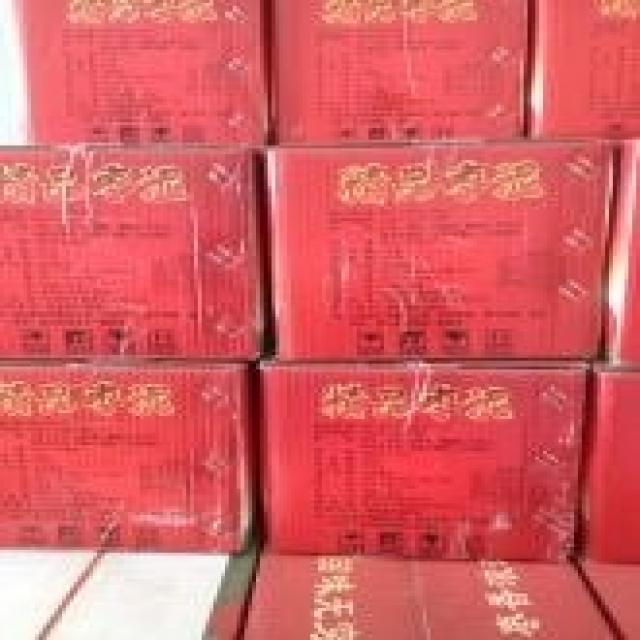box: (266, 139, 617, 362), (257, 360, 587, 563), (0, 148, 263, 362), (0, 361, 257, 553), (267, 2, 533, 147), (4, 2, 271, 146), (237, 552, 621, 637), (526, 0, 636, 143), (575, 365, 636, 564), (602, 140, 636, 364), (576, 563, 636, 637)
